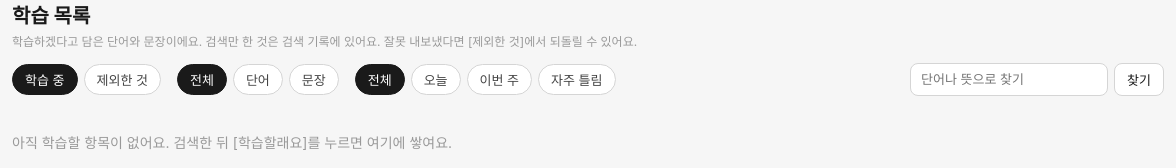
Test: Learning › 비어 있으면 범위에 맞는 안내를 보여준다
The width and height of the screenshot is (1176, 168).
Check: the text "아직 학습할 항목이 없어요. 검색한 뒤 [학습할래요]를 누르면 여기에 쌓여요." is shown, box [12,134,452,151]
Step 1. Click the button "자주 틀림" → (577, 80), box [538,64,616,95]
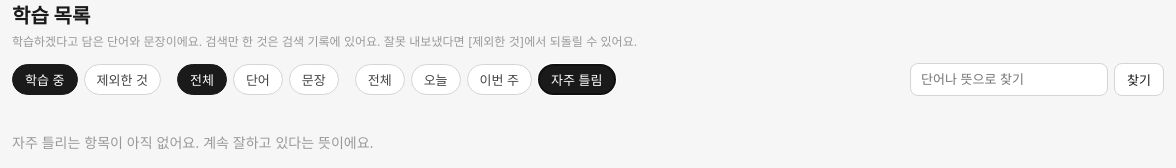
Check: the text "자주 틀리는 항목이 아직 없어요. 계속 잘하고 있다는 뜻이에요." is shown, box [12,134,374,151]
